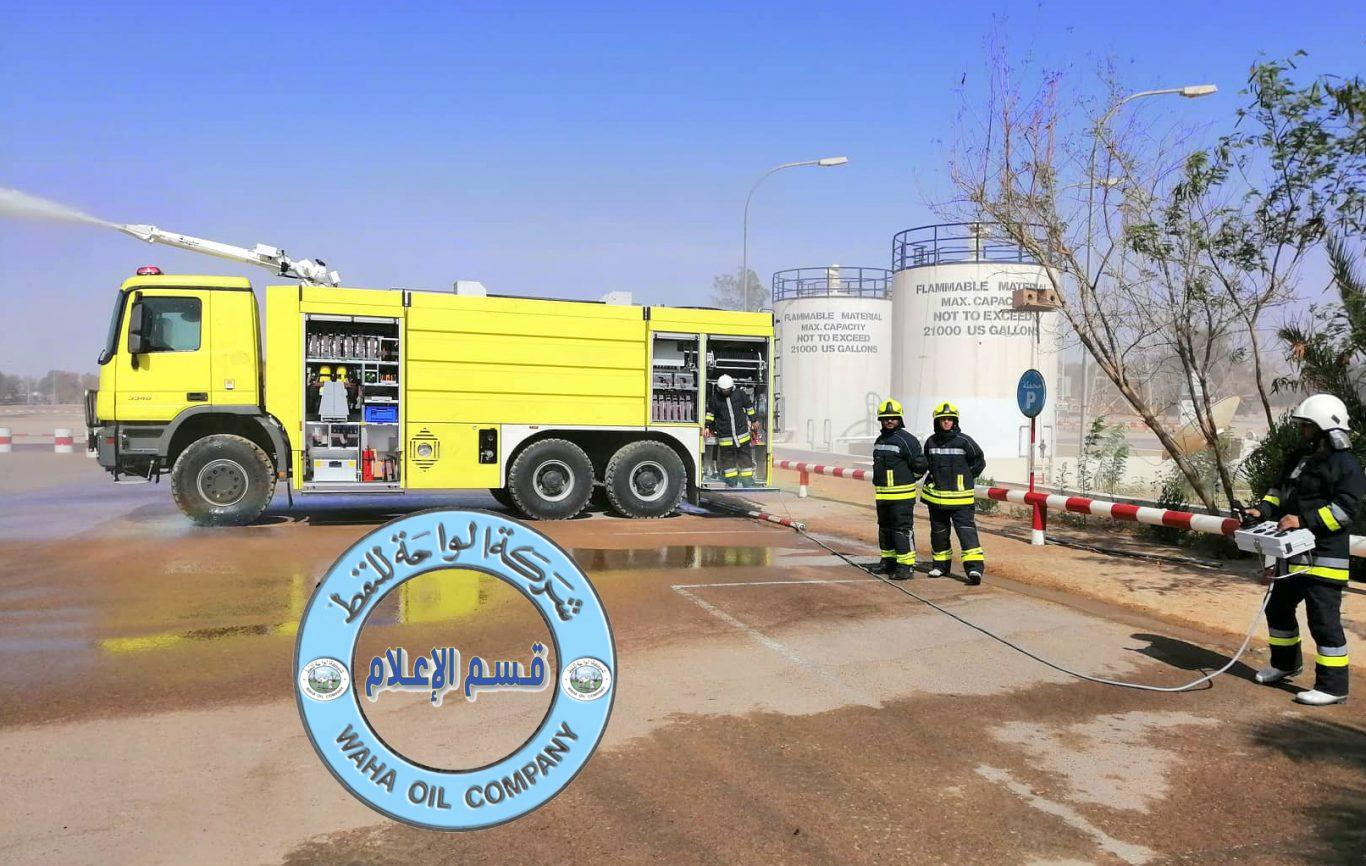firetruck_off: (85, 227, 780, 522)
